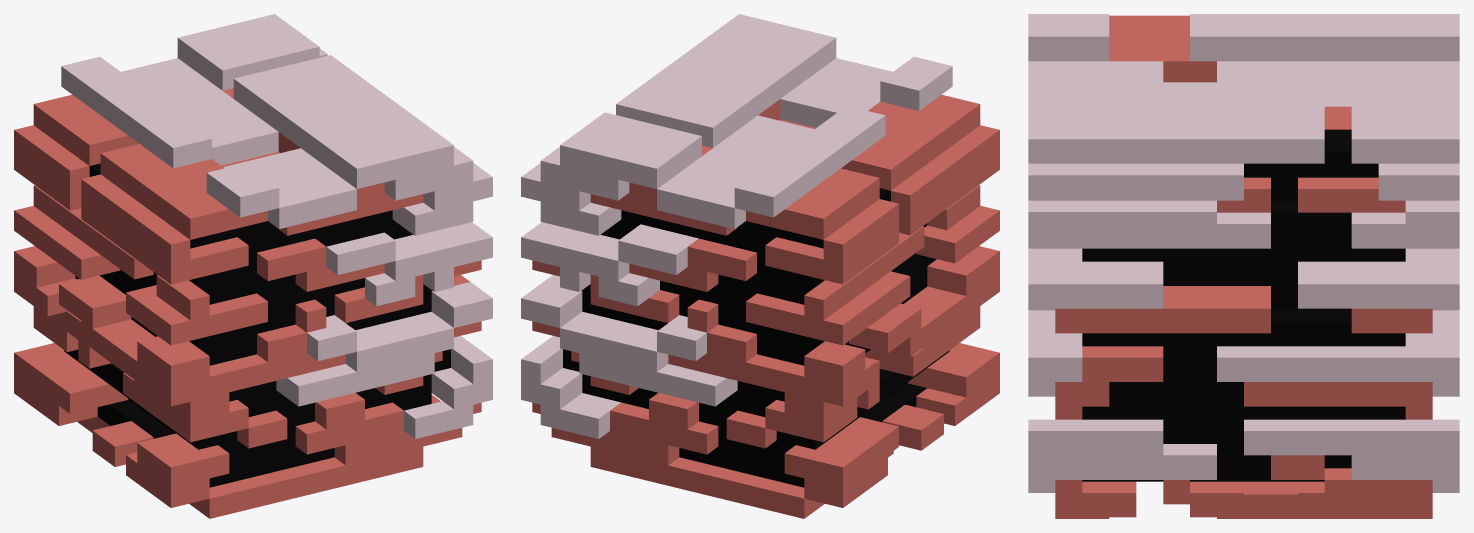
File: br-m-rock-pink.fbx
3 renders of one model, left to right at view 1: azimuth 30°, elevation 25°; view 2: azimuth 150°, elevation 25°; view 3: azimuth 270°, elevation 25°, orthographic. The views are drawn at different scales.
Visible parts, largest first — view 1: br_m_rock_pink; view 2: br_m_rock_pink; view 3: br_m_rock_pink.
Part boxes in pixels (x1=…): br_m_rock_pink: x1=14, y1=14, x2=492, y2=518; br_m_rock_pink: x1=521, y1=14, x2=999, y2=518; br_m_rock_pink: x1=1028, y1=14, x2=1459, y2=518.
Size of the model in its own units: 1 by 1 by 0.999.
